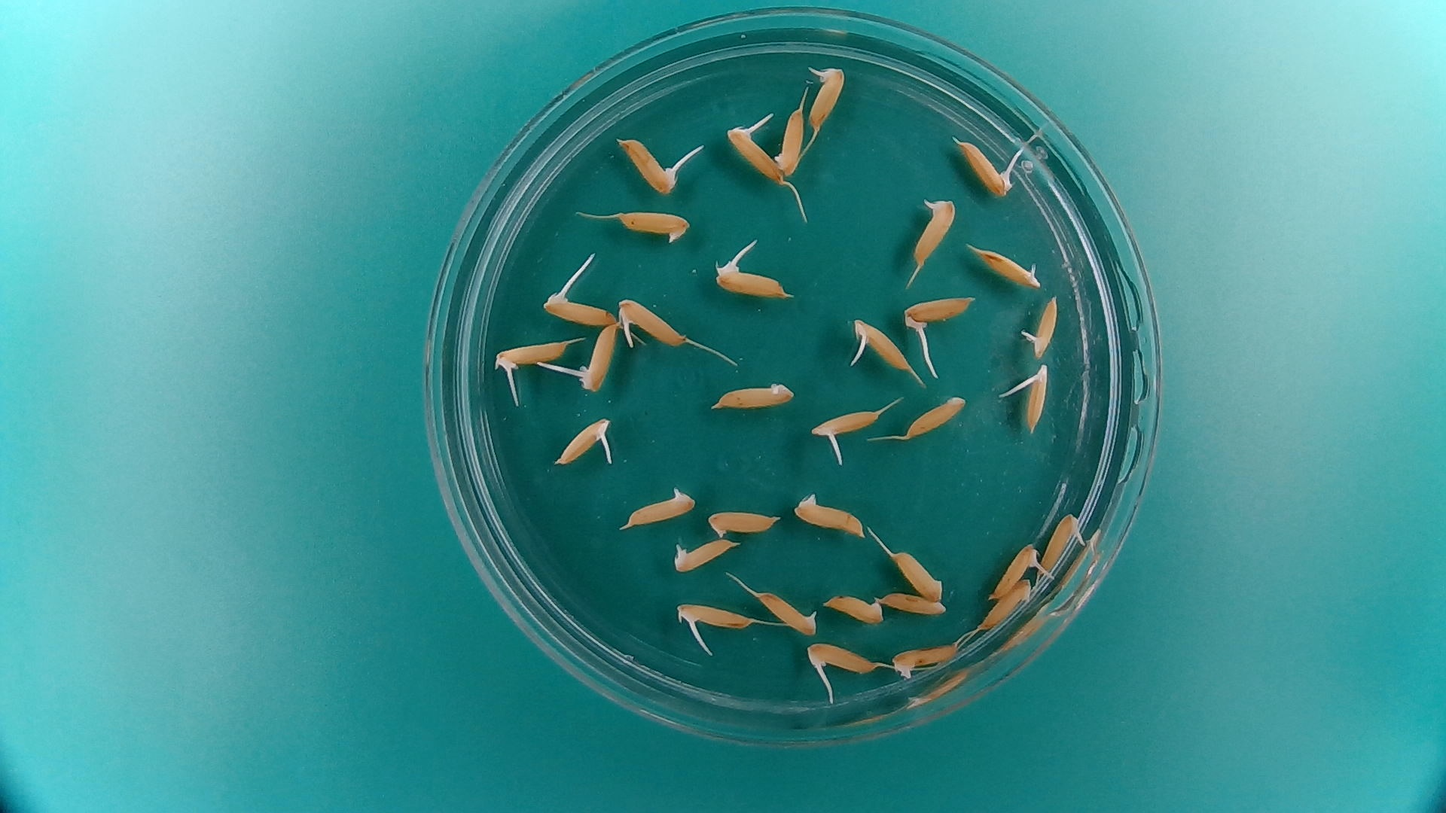no: (790, 490, 866, 537), (710, 374, 798, 413), (889, 546, 947, 601), (978, 577, 1036, 632), (902, 393, 968, 440), (615, 206, 693, 245), (890, 639, 962, 680), (771, 102, 808, 178), (703, 505, 781, 540), (821, 590, 886, 625), (879, 592, 947, 615)
yes: (615, 294, 692, 349), (847, 315, 916, 376), (721, 125, 786, 185), (615, 136, 678, 196), (620, 481, 699, 528), (910, 190, 959, 265), (551, 413, 617, 468), (572, 322, 621, 396), (970, 244, 1045, 291), (804, 59, 850, 135), (959, 136, 1013, 199), (987, 540, 1042, 599), (710, 263, 787, 302), (755, 590, 818, 637), (493, 336, 573, 373), (544, 286, 615, 327), (1040, 510, 1083, 574), (670, 536, 740, 575), (1020, 292, 1060, 360), (904, 293, 972, 332), (806, 641, 880, 676), (679, 598, 755, 629), (810, 408, 880, 440), (1020, 361, 1051, 432)
